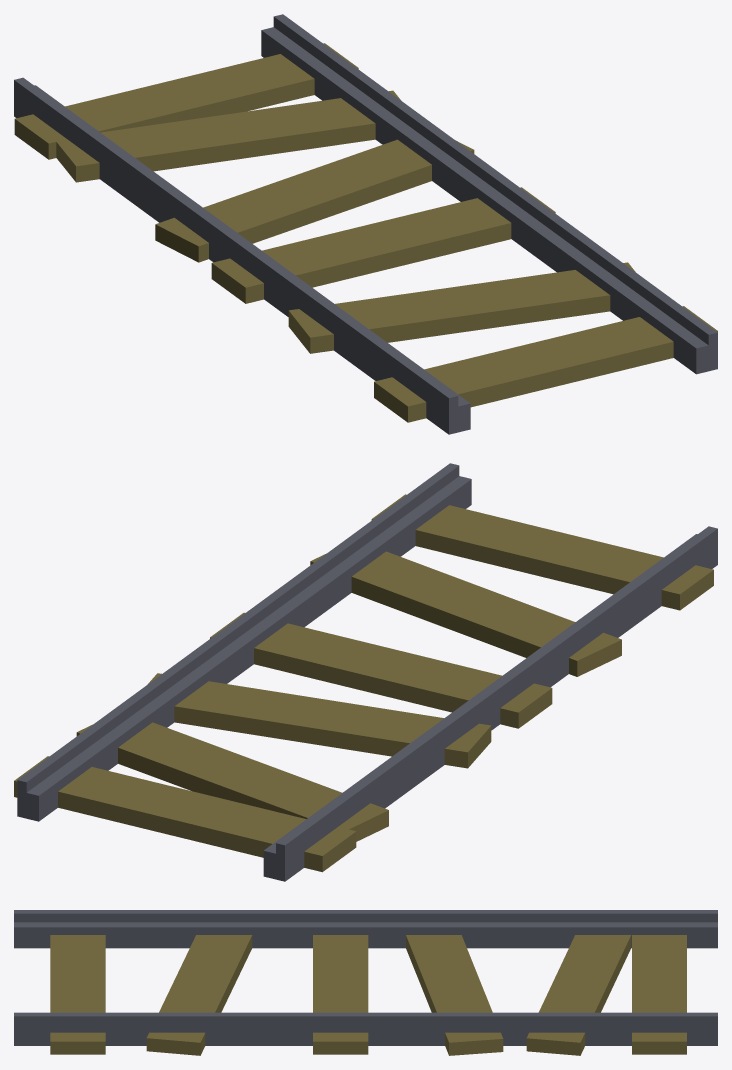
Rendered from Minecart_Track.fbx.
The picture shows the model from 3 angles, top to bottom: view 1: azimuth 30°, elevation 25°; view 2: azimuth 150°, elevation 25°; view 3: azimuth 270°, elevation 25°; orthographic projection. The views are drawn at different scales.
Visible parts, largest first — view 1: Box 8, Box, Box 4, Box 6, Box 3, Box 2, Box 5, Box 7, Box 1, Box 9; view 2: Box 8, Box, Box 5, Box 7, Box 3, Box 2, Box 4, Box 6, Box 1, Box 9; view 3: Box 1, Box 9, Box, Box 8, Box 4, Box 6, Box 5, Box 3, Box 2, Box 7.
Part boxes in pixels (bbox=[...]): Box 8: bbox=[14, 77, 458, 423]; Box: bbox=[261, 27, 717, 374]; Box 4: bbox=[288, 262, 635, 353]; Box 6: bbox=[54, 90, 401, 182]; Box 3: bbox=[374, 306, 717, 422]; Box 2: bbox=[211, 187, 555, 303]; Box 5: bbox=[155, 139, 474, 262]; Box 7: bbox=[14, 43, 358, 159]; Box 1: bbox=[273, 14, 717, 360]; Box 9: bbox=[14, 85, 470, 434]; Box 8: bbox=[276, 526, 717, 870]; Box: bbox=[17, 476, 471, 821]; Box 5: bbox=[147, 673, 491, 768]; Box 7: bbox=[14, 756, 356, 872]; Box 3: bbox=[371, 494, 713, 610]; Box 2: bbox=[210, 612, 552, 728]; Box 4: bbox=[310, 551, 621, 676]; Box 6: bbox=[76, 722, 388, 841]; Box 1: bbox=[17, 463, 459, 807]; Box 9: bbox=[263, 534, 717, 881]; Box 1: bbox=[14, 1012, 717, 1037]; Box 9: bbox=[14, 922, 717, 948]; Box: bbox=[14, 1025, 717, 1045]; Box 8: bbox=[14, 910, 717, 922]; Box 4: bbox=[146, 935, 252, 1055]; Box 6: bbox=[526, 935, 631, 1055]; Box 5: bbox=[406, 935, 503, 1055]; Box 3: bbox=[50, 935, 105, 1054]; Box 2: bbox=[313, 935, 368, 1054]; Box 7: bbox=[632, 935, 686, 1054].
Bounding box in the file's own units: 102 × 243 × 11.27.
